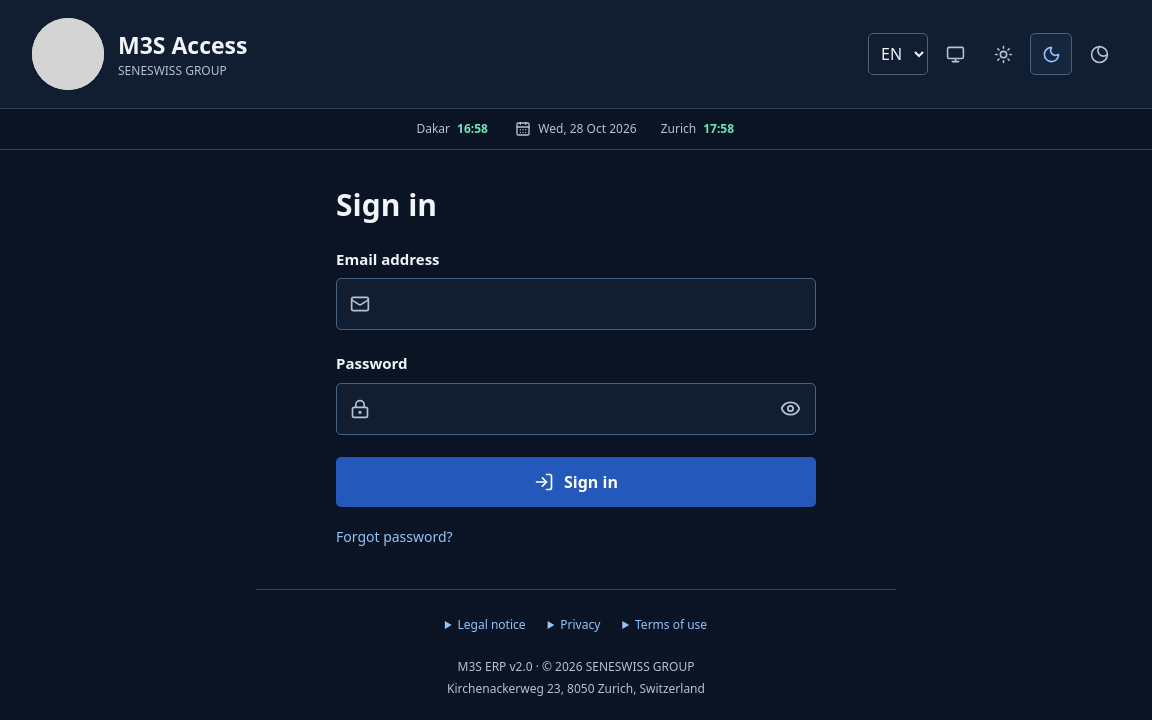
Test: validates email locally in EN without a browser-language bubble
Step 1. Type "invalid-address" into the field labelled "Email address" → (576, 304), box [336, 278, 816, 330]
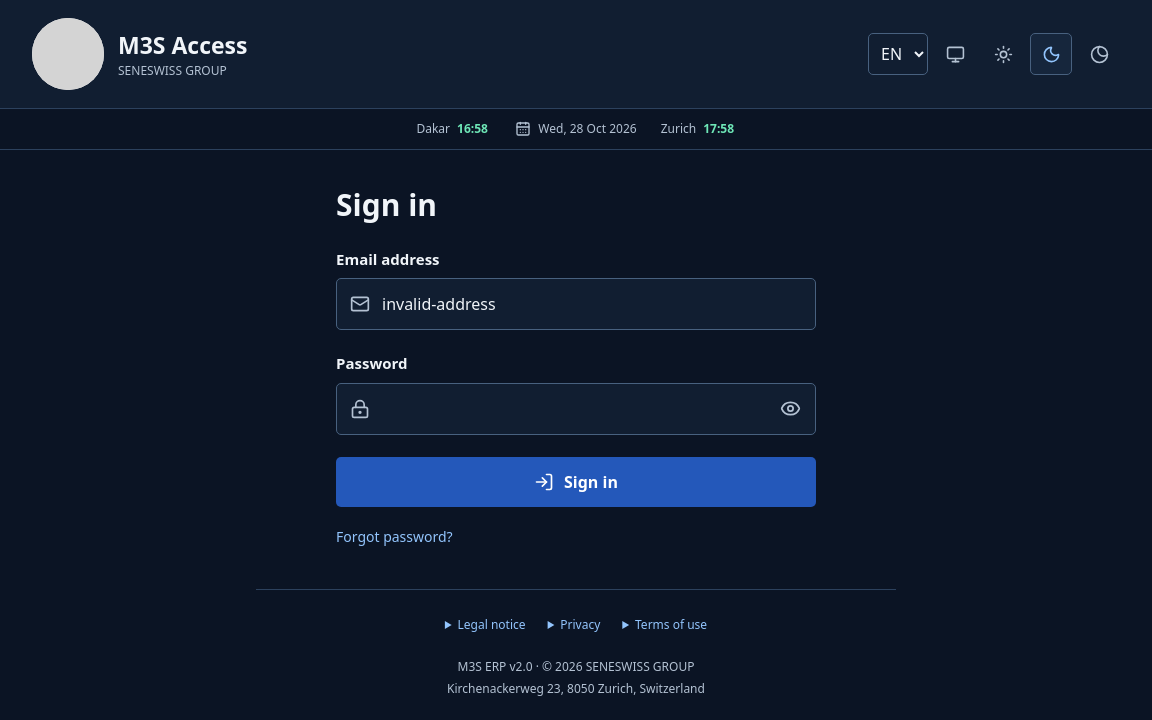
Step 2. Click the button "Sign in" → (576, 482), box [336, 456, 816, 506]
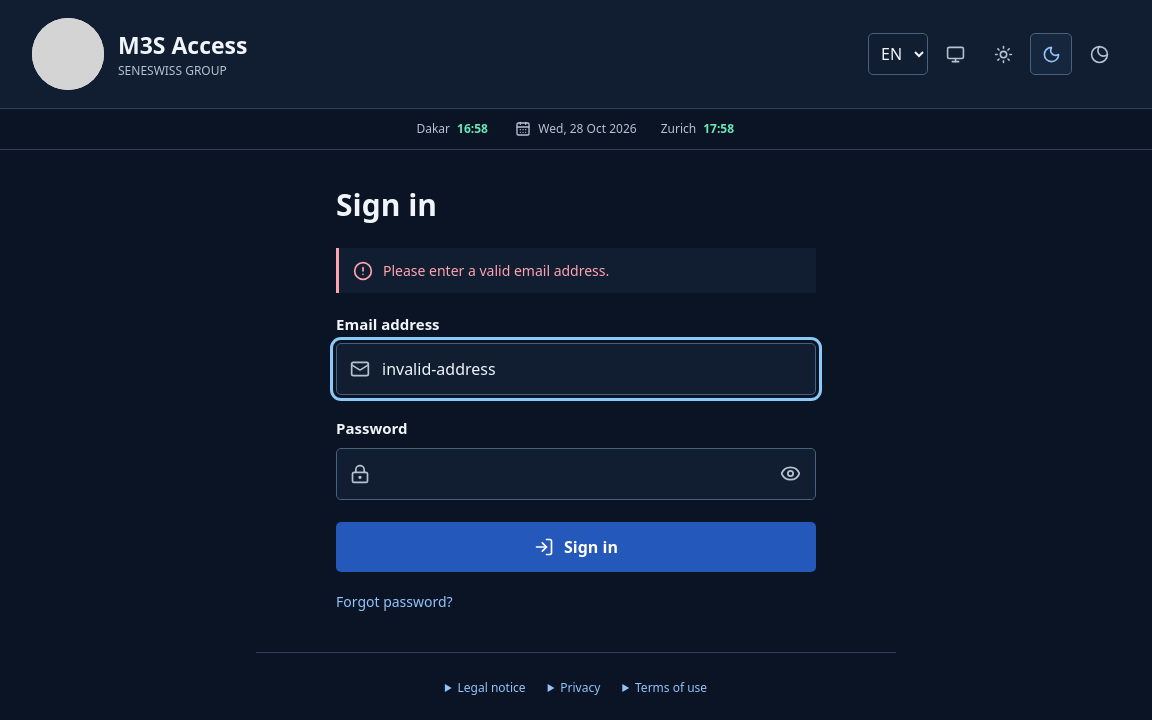
Expected: the message reads "Please enter a valid email address.", [383, 260, 609, 280]
